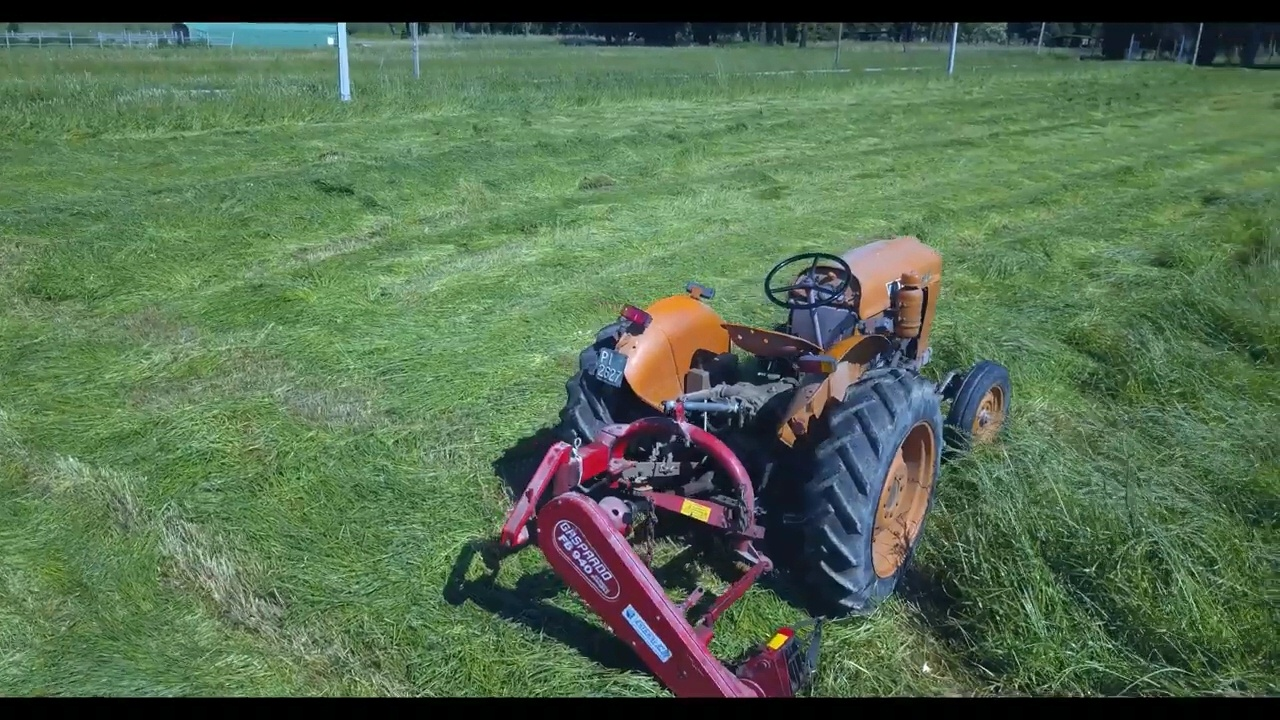traktor: (553, 227, 1012, 614)
